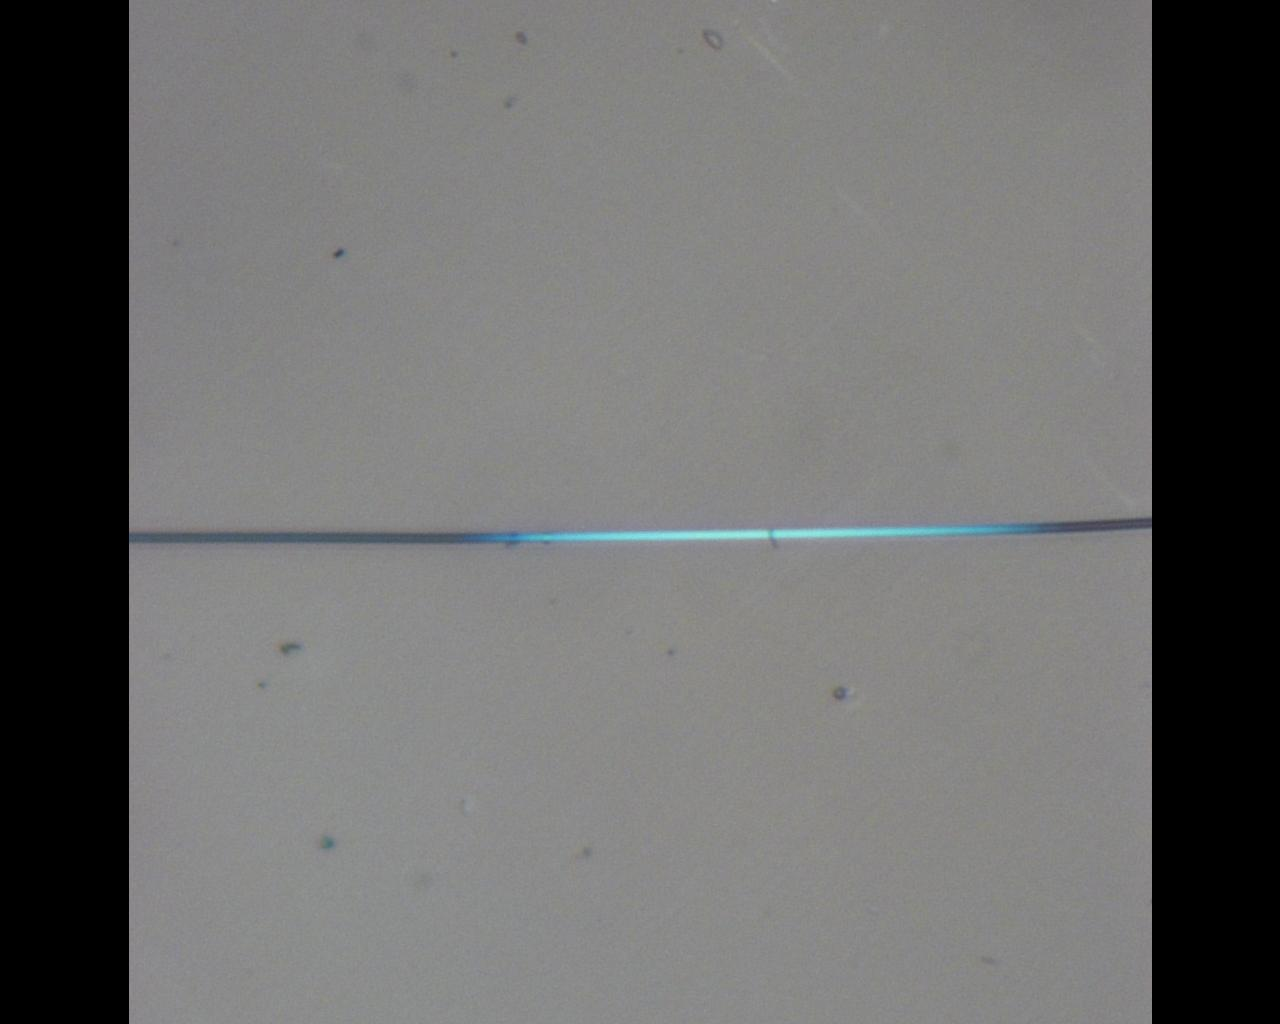fiber: (130, 516, 1151, 542)
